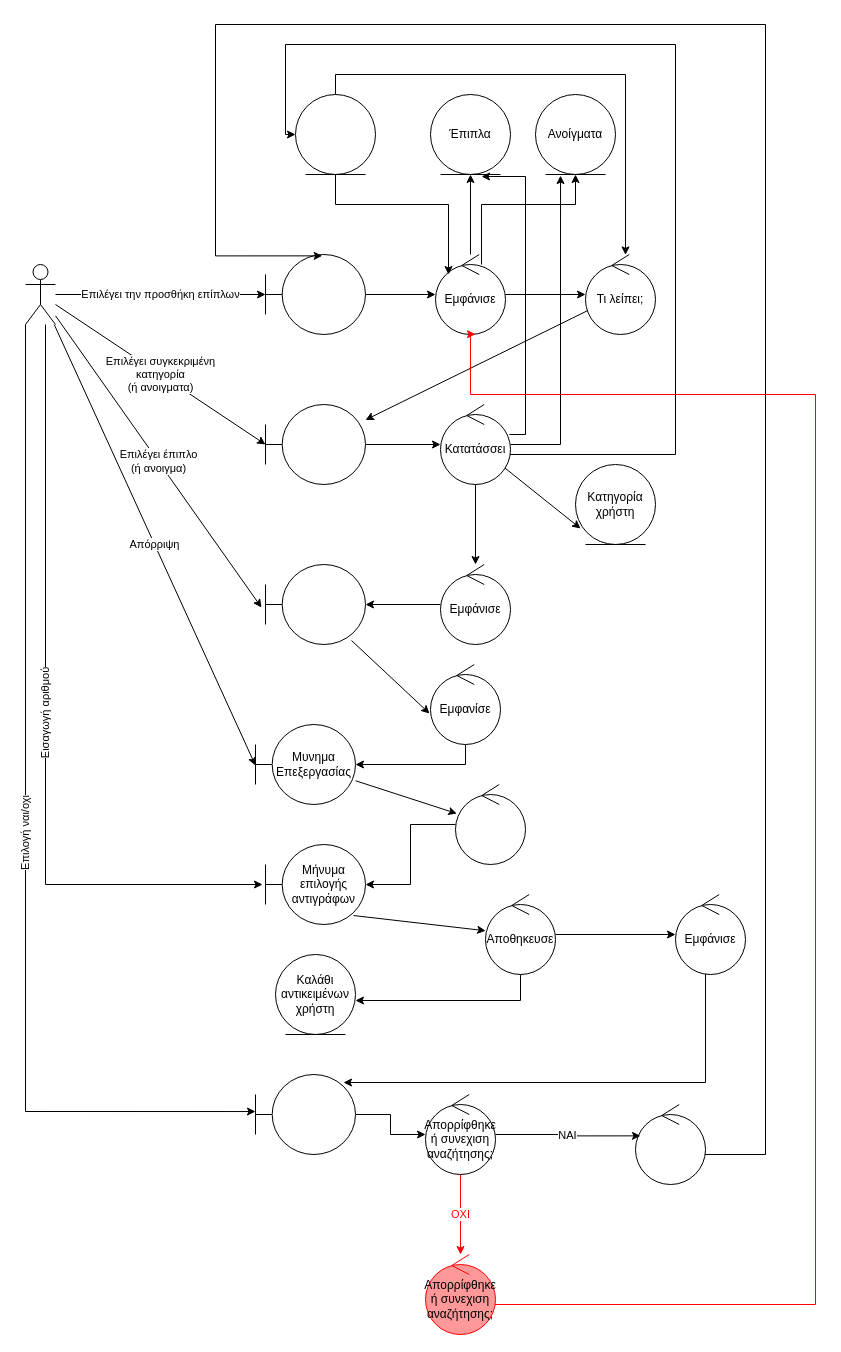
Some shapes in this 841 by 1352 pixel diagram are drawn without their labels. Here are the shapes that lost their labels. From the top down, the box of each, then its label:
(294, 94, 376, 174): Δωμάτιο
(24, 264, 56, 324): Χρήστης
(264, 254, 366, 334): Σελίδα δωματίου
(264, 404, 366, 484): Σελίδα επιλογής αντικειμένων
(264, 564, 366, 644): Λίστα επιλογών
(454, 784, 526, 864): Πόσα αντίγραφα;
(254, 1074, 356, 1154): Μύνημα επιβεβαίωσης συνέχισης αναζήτησης
(634, 1104, 706, 1184): Επέστρεψε
